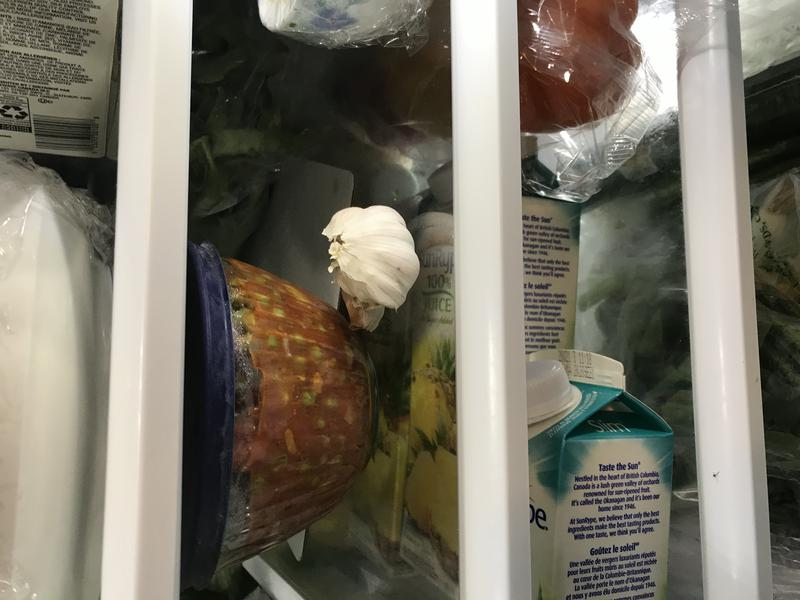garlic: (316, 198, 425, 341)
